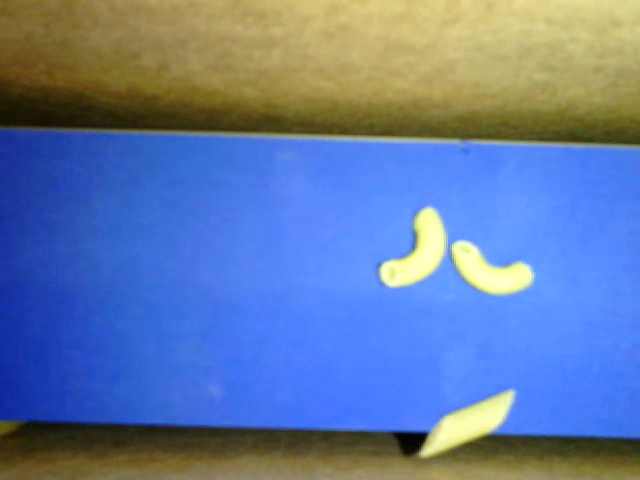elbow: (376, 205, 446, 287), (450, 237, 534, 295)
penne: (418, 387, 515, 458)
